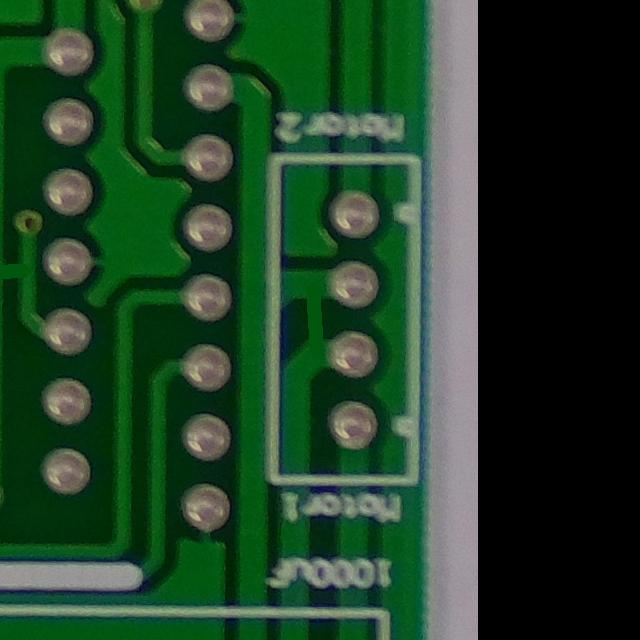short: (278, 269, 362, 372)
